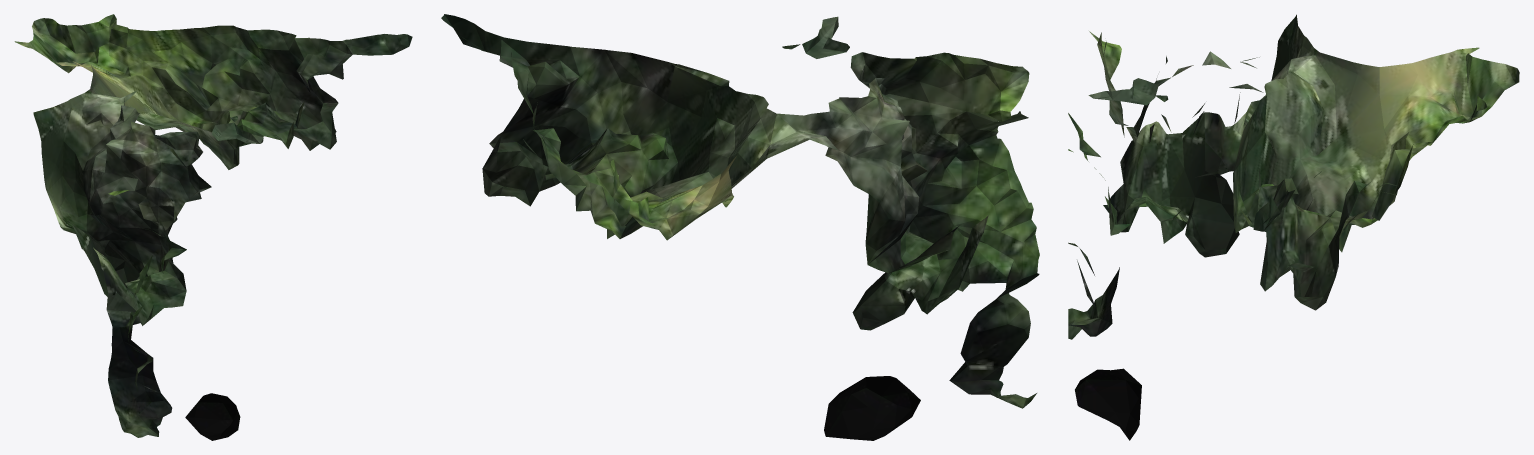
3 renders of one model, left to right at view 1: azimuth 30°, elevation 25°; view 2: azimuth 150°, elevation 25°; view 3: azimuth 270°, elevation 25°, orthographic. The views are drawn at different scales.
Bounding box in the file's own units: 22.84 × 17.89 × 20.87.
2 materials, 2 textured.
